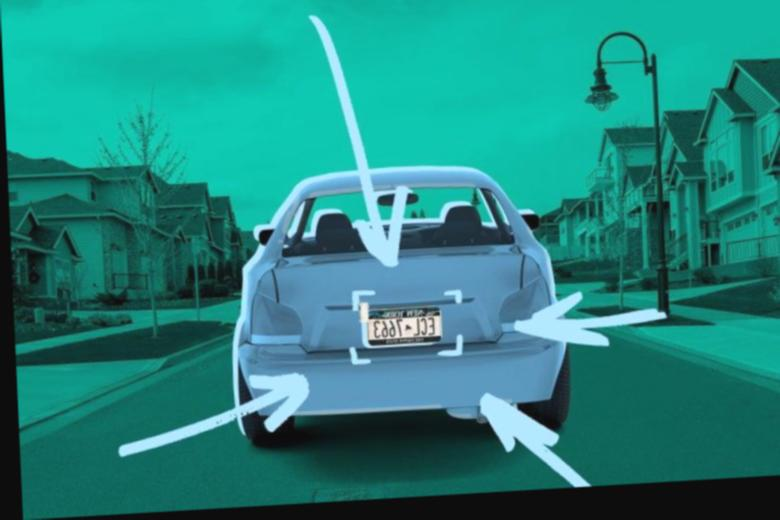License_Plate: (363, 301, 442, 346)
